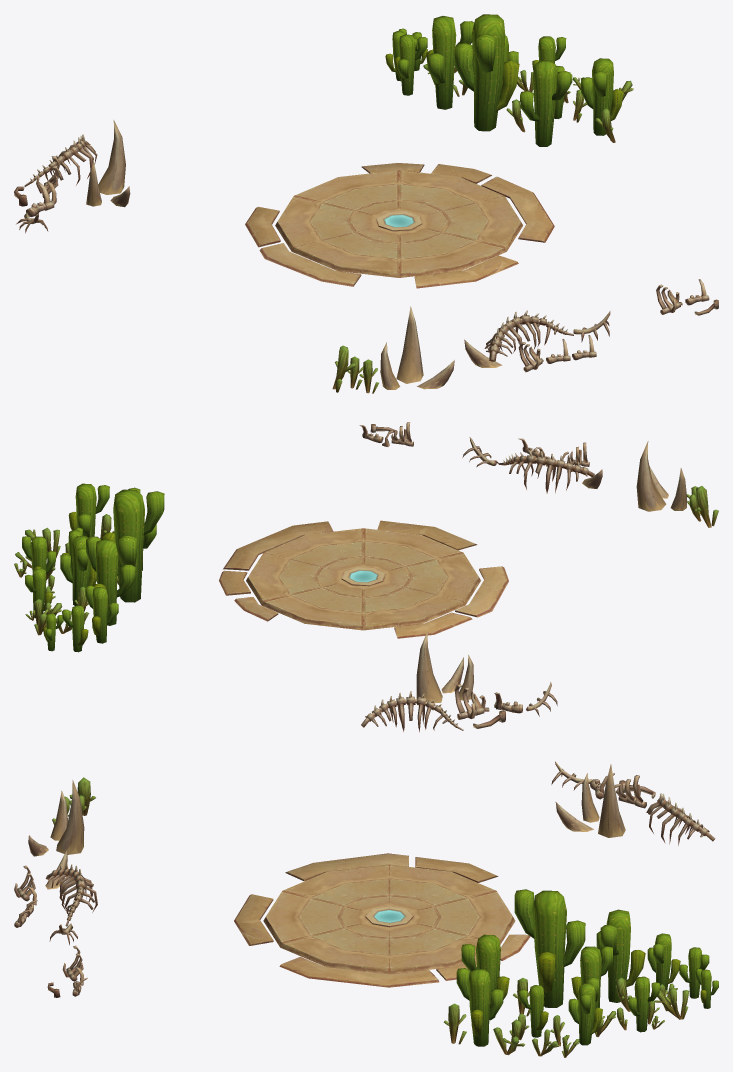
File: boss1.FBX
The picture shows the model from 3 angles, top to bottom: view 1: azimuth 30°, elevation 25°; view 2: azimuth 150°, elevation 25°; view 3: azimuth 270°, elevation 25°; orthographic projection. The views are drawn at different scales.
Parts seen in each view (by area): view 1: boss1; view 2: boss1; view 3: boss1.
Part boxes in pixels (box(x1,y1,x2,y2)): boss1: box(14, 14, 718, 393); boss1: box(14, 422, 718, 732); boss1: box(14, 761, 718, 1057).
Bounding box in the file's own units: 5263 × 1044 × 5419.
Materials: 1 (1 with a texture image).
